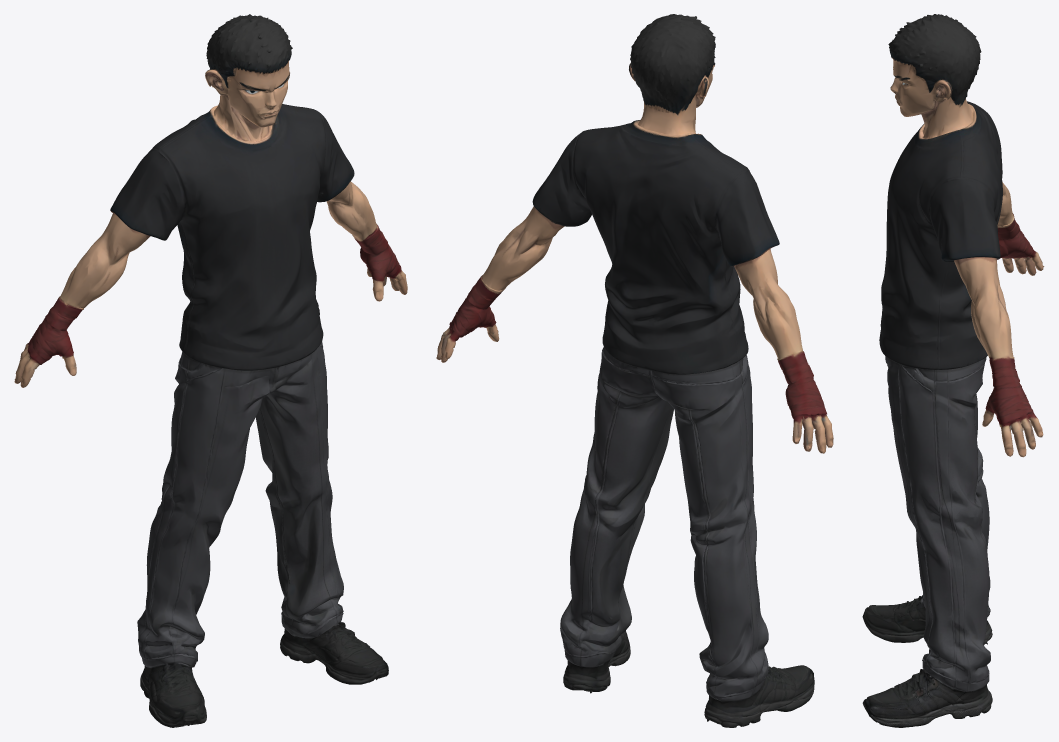
Rendered from seokdal_front.glb.
3 views of the same model, side by side, from view 1: azimuth 30°, elevation 25°; view 2: azimuth 150°, elevation 25°; view 3: azimuth 270°, elevation 25° (orthographic). The views are drawn at different scales.
Visible parts, largest first — view 1: tripo_node_666a1669-aed4-49c1-99be-801ff7b7ab8d; view 2: tripo_node_666a1669-aed4-49c1-99be-801ff7b7ab8d; view 3: tripo_node_666a1669-aed4-49c1-99be-801ff7b7ab8d.
Boxes of the visible parts, box(x1,y1,x2,y2) form: tripo_node_666a1669-aed4-49c1-99be-801ff7b7ab8d: box(14, 14, 407, 727); tripo_node_666a1669-aed4-49c1-99be-801ff7b7ab8d: box(436, 14, 833, 727); tripo_node_666a1669-aed4-49c1-99be-801ff7b7ab8d: box(862, 14, 1044, 727).
Bounding box in the file's own units: 1.07 × 1.77 × 0.4433.
Materials: 1 (1 with a texture image).
